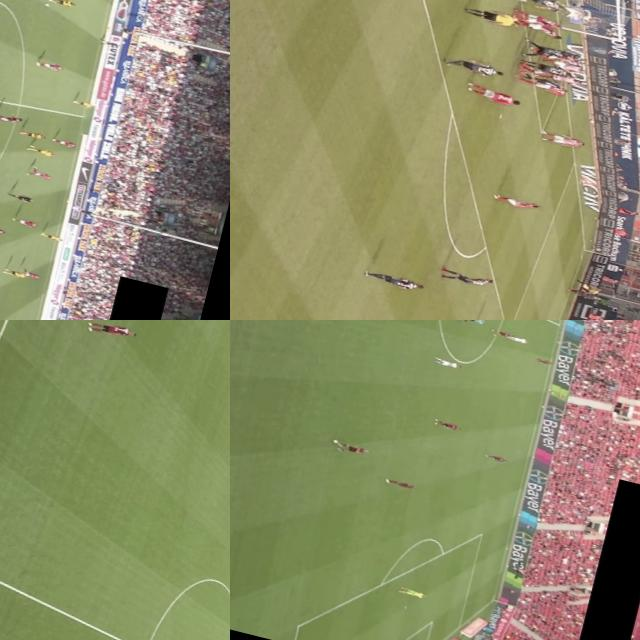ball: (326, 436, 341, 446), (40, 2, 51, 8)
player: (363, 266, 422, 292), (447, 55, 502, 80), (466, 84, 524, 107), (440, 266, 495, 290), (83, 320, 136, 342), (489, 190, 539, 212), (514, 20, 564, 42), (551, 2, 600, 24), (518, 39, 562, 63), (513, 11, 563, 31), (516, 76, 566, 95), (538, 66, 582, 86), (541, 130, 584, 150), (522, 58, 566, 76), (520, 73, 564, 89), (329, 440, 368, 458), (546, 58, 586, 75), (378, 476, 418, 492), (515, 0, 564, 12), (23, 144, 57, 158), (14, 128, 47, 142), (428, 356, 461, 370), (564, 286, 598, 299), (23, 168, 54, 182), (432, 418, 462, 432), (397, 586, 426, 600), (35, 59, 66, 72), (0, 109, 22, 127), (552, 48, 586, 59), (10, 215, 38, 228), (48, 137, 78, 149), (1, 267, 28, 280), (502, 334, 528, 346), (45, 0, 79, 9), (491, 328, 514, 341), (480, 452, 506, 463), (71, 99, 97, 109), (40, 232, 64, 242), (21, 270, 44, 280), (532, 356, 554, 366)
